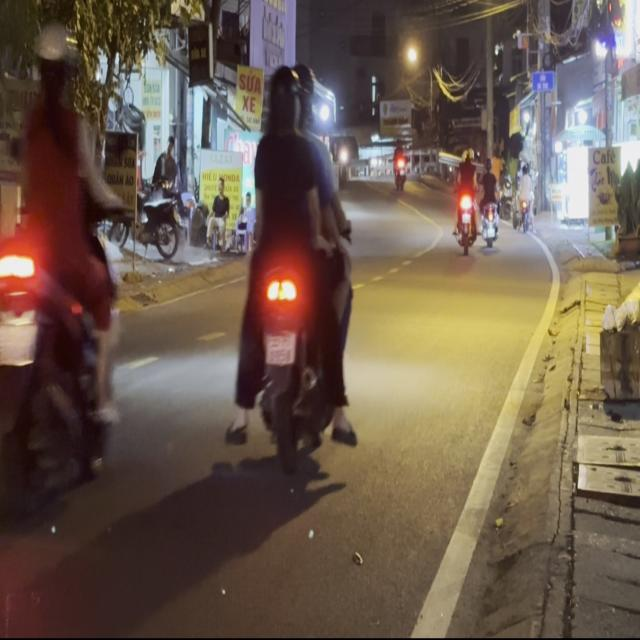helmet: (32, 20, 74, 101), (262, 64, 299, 137)
licenseplate: (0, 13, 124, 526), (229, 59, 358, 510)
nohelmet: (0, 316, 36, 362), (266, 332, 296, 364)
